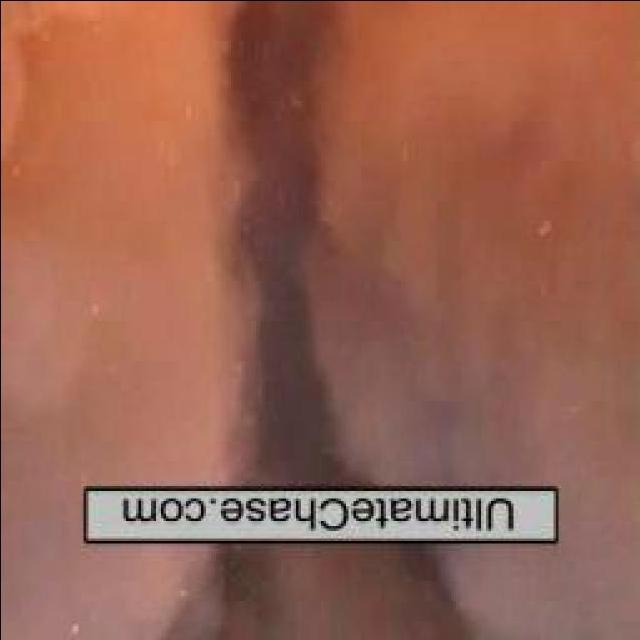Fire: (437, 0, 635, 235), (8, 0, 103, 211)
